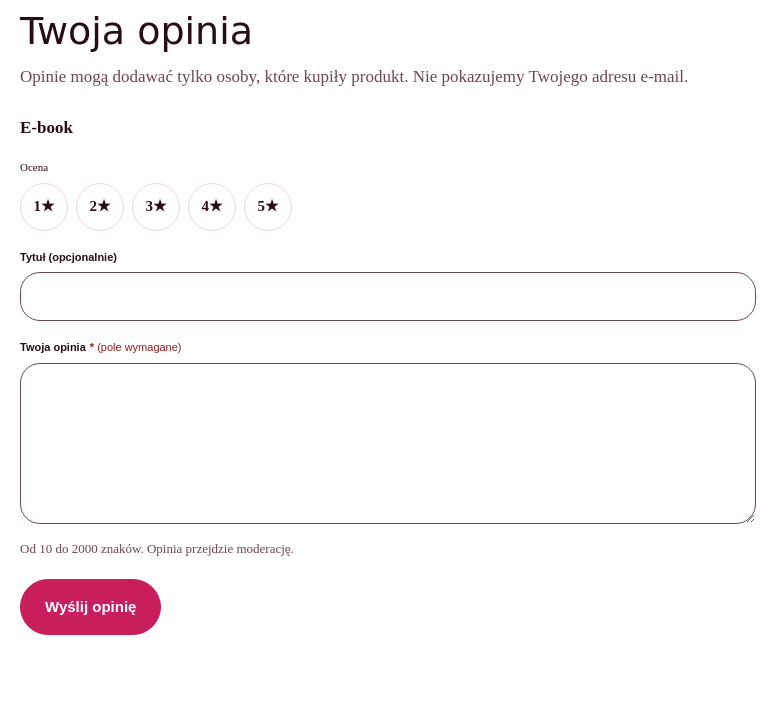
Test case: ReviewForm › validates before sending and submits a verified-purchase review
The width and height of the screenshot is (777, 706).
Check: the text "E-book" is shown, box [20,118,73,137]
Click the button "Wyślij opinię" at point(91, 607), box [20,579,161,635]
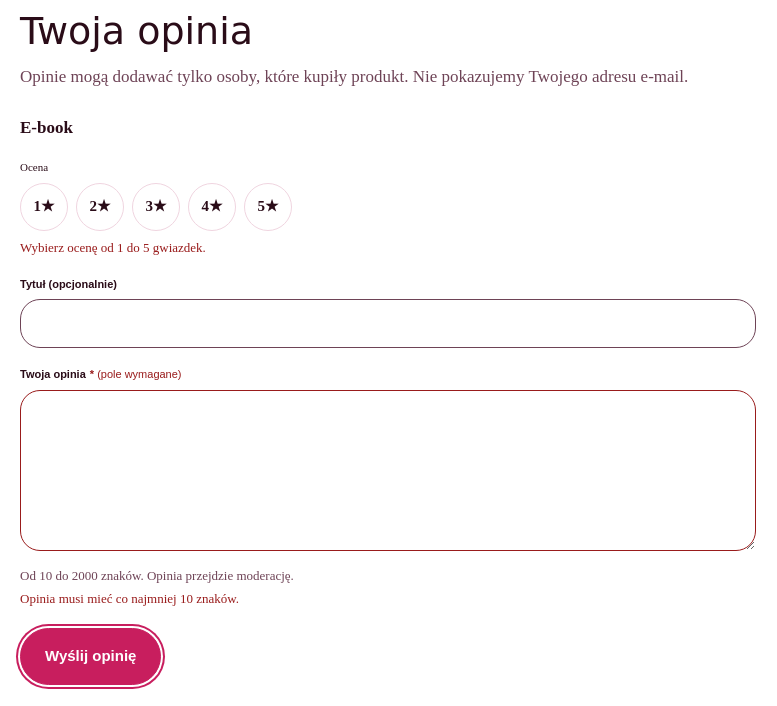
Check: the text "Wybierz ocenę od 1 do 5 gwiazdek." is shown, box [20,240,206,255]
Check: the text "Opinia musi mieć co najmniej 10 znaków." is shown, box [20,591,239,606]
Click the radio button named "5 z 5" at point(268, 207), box [244,183,292,231]
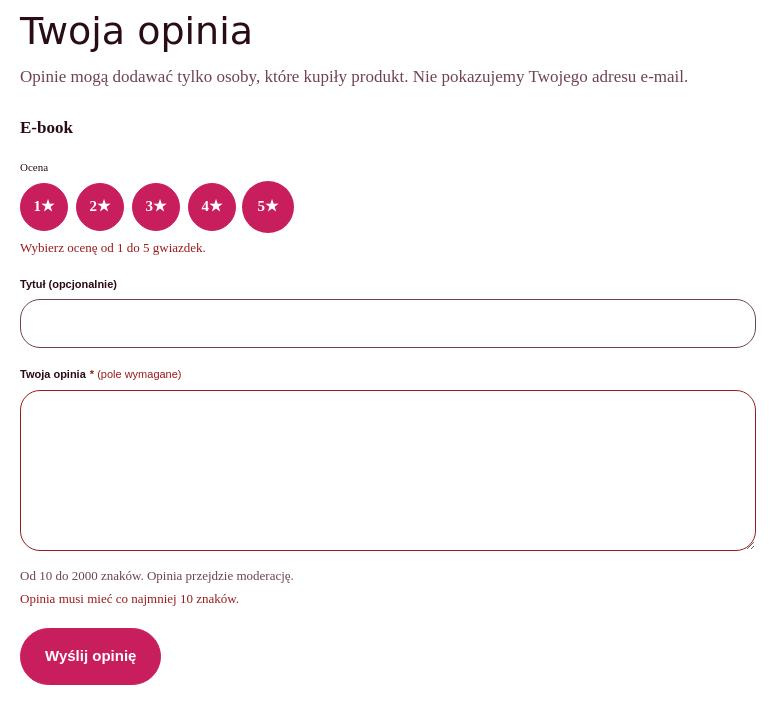
Type "Bardzo dobry materiał, polecam." into the text box labelled "Twoja opinia* (pole wymagane)" at point(388, 470), box [20,390,756,551]
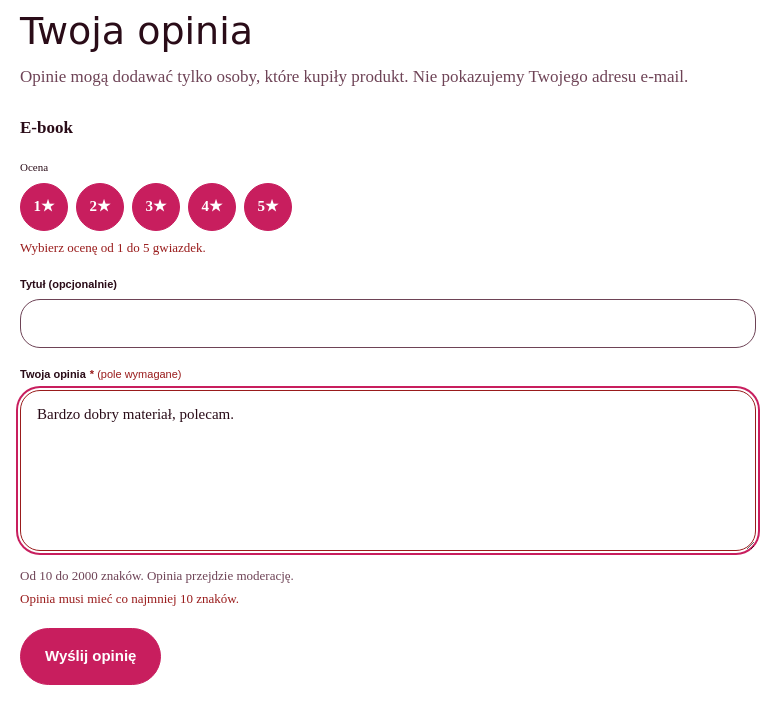
Click the button "Wyślij opinię" at point(91, 657), box [20,628,161,685]
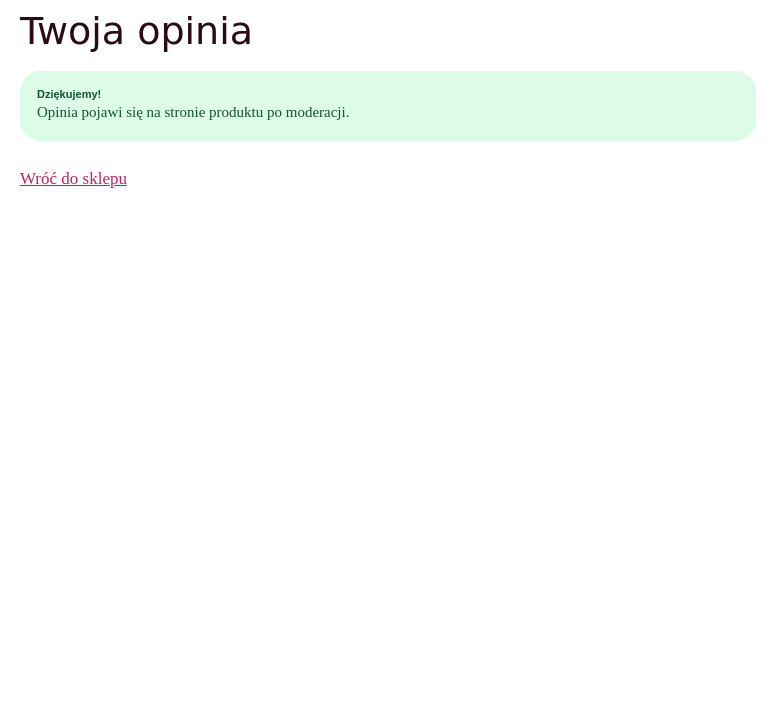
Check: the text "Dziękujemy!" is shown, box [37,88,101,100]
